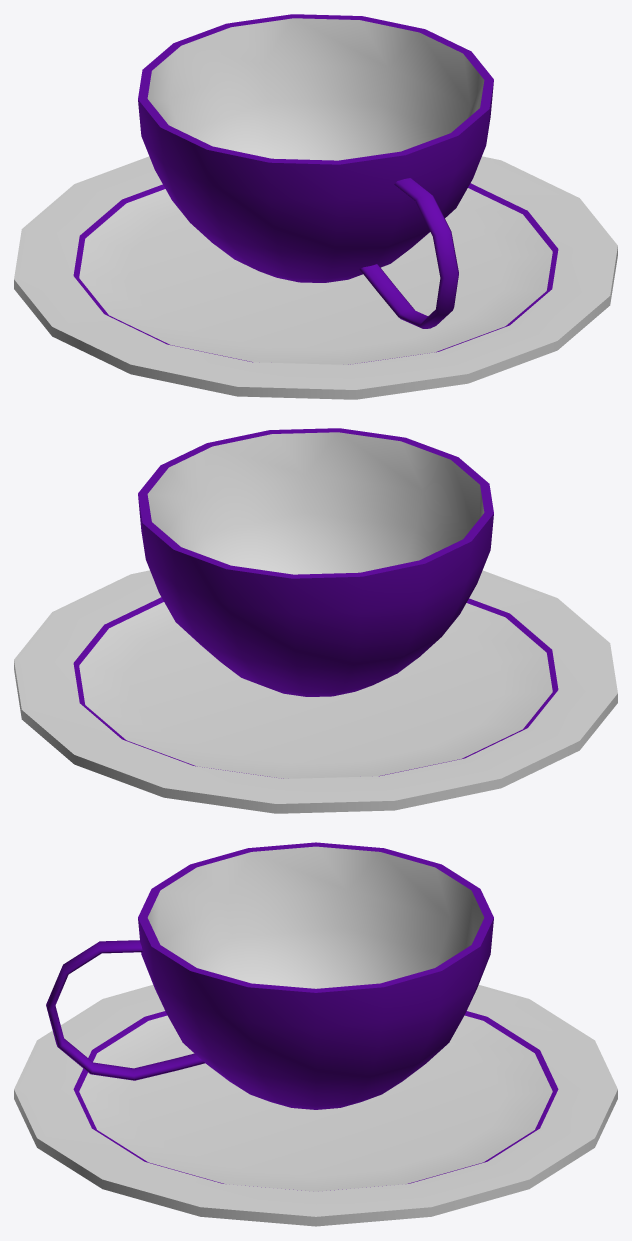
File: SM_TeacupRide.fbx
3 views of the same model, one above another, from view 1: azimuth 30°, elevation 25°; view 2: azimuth 150°, elevation 25°; view 3: azimuth 270°, elevation 25° (orthographic).
Parts seen in each view (by area): view 1: teacupRide; view 2: teacupRide; view 3: teacupRide.
Boxes of the visible parts, x1,y1,x2,y2 form: teacupRide: (14, 14, 617, 399); teacupRide: (14, 428, 617, 813); teacupRide: (14, 842, 617, 1226).
Size of the model in its own units: 3.63 by 1.24 by 3.63.
